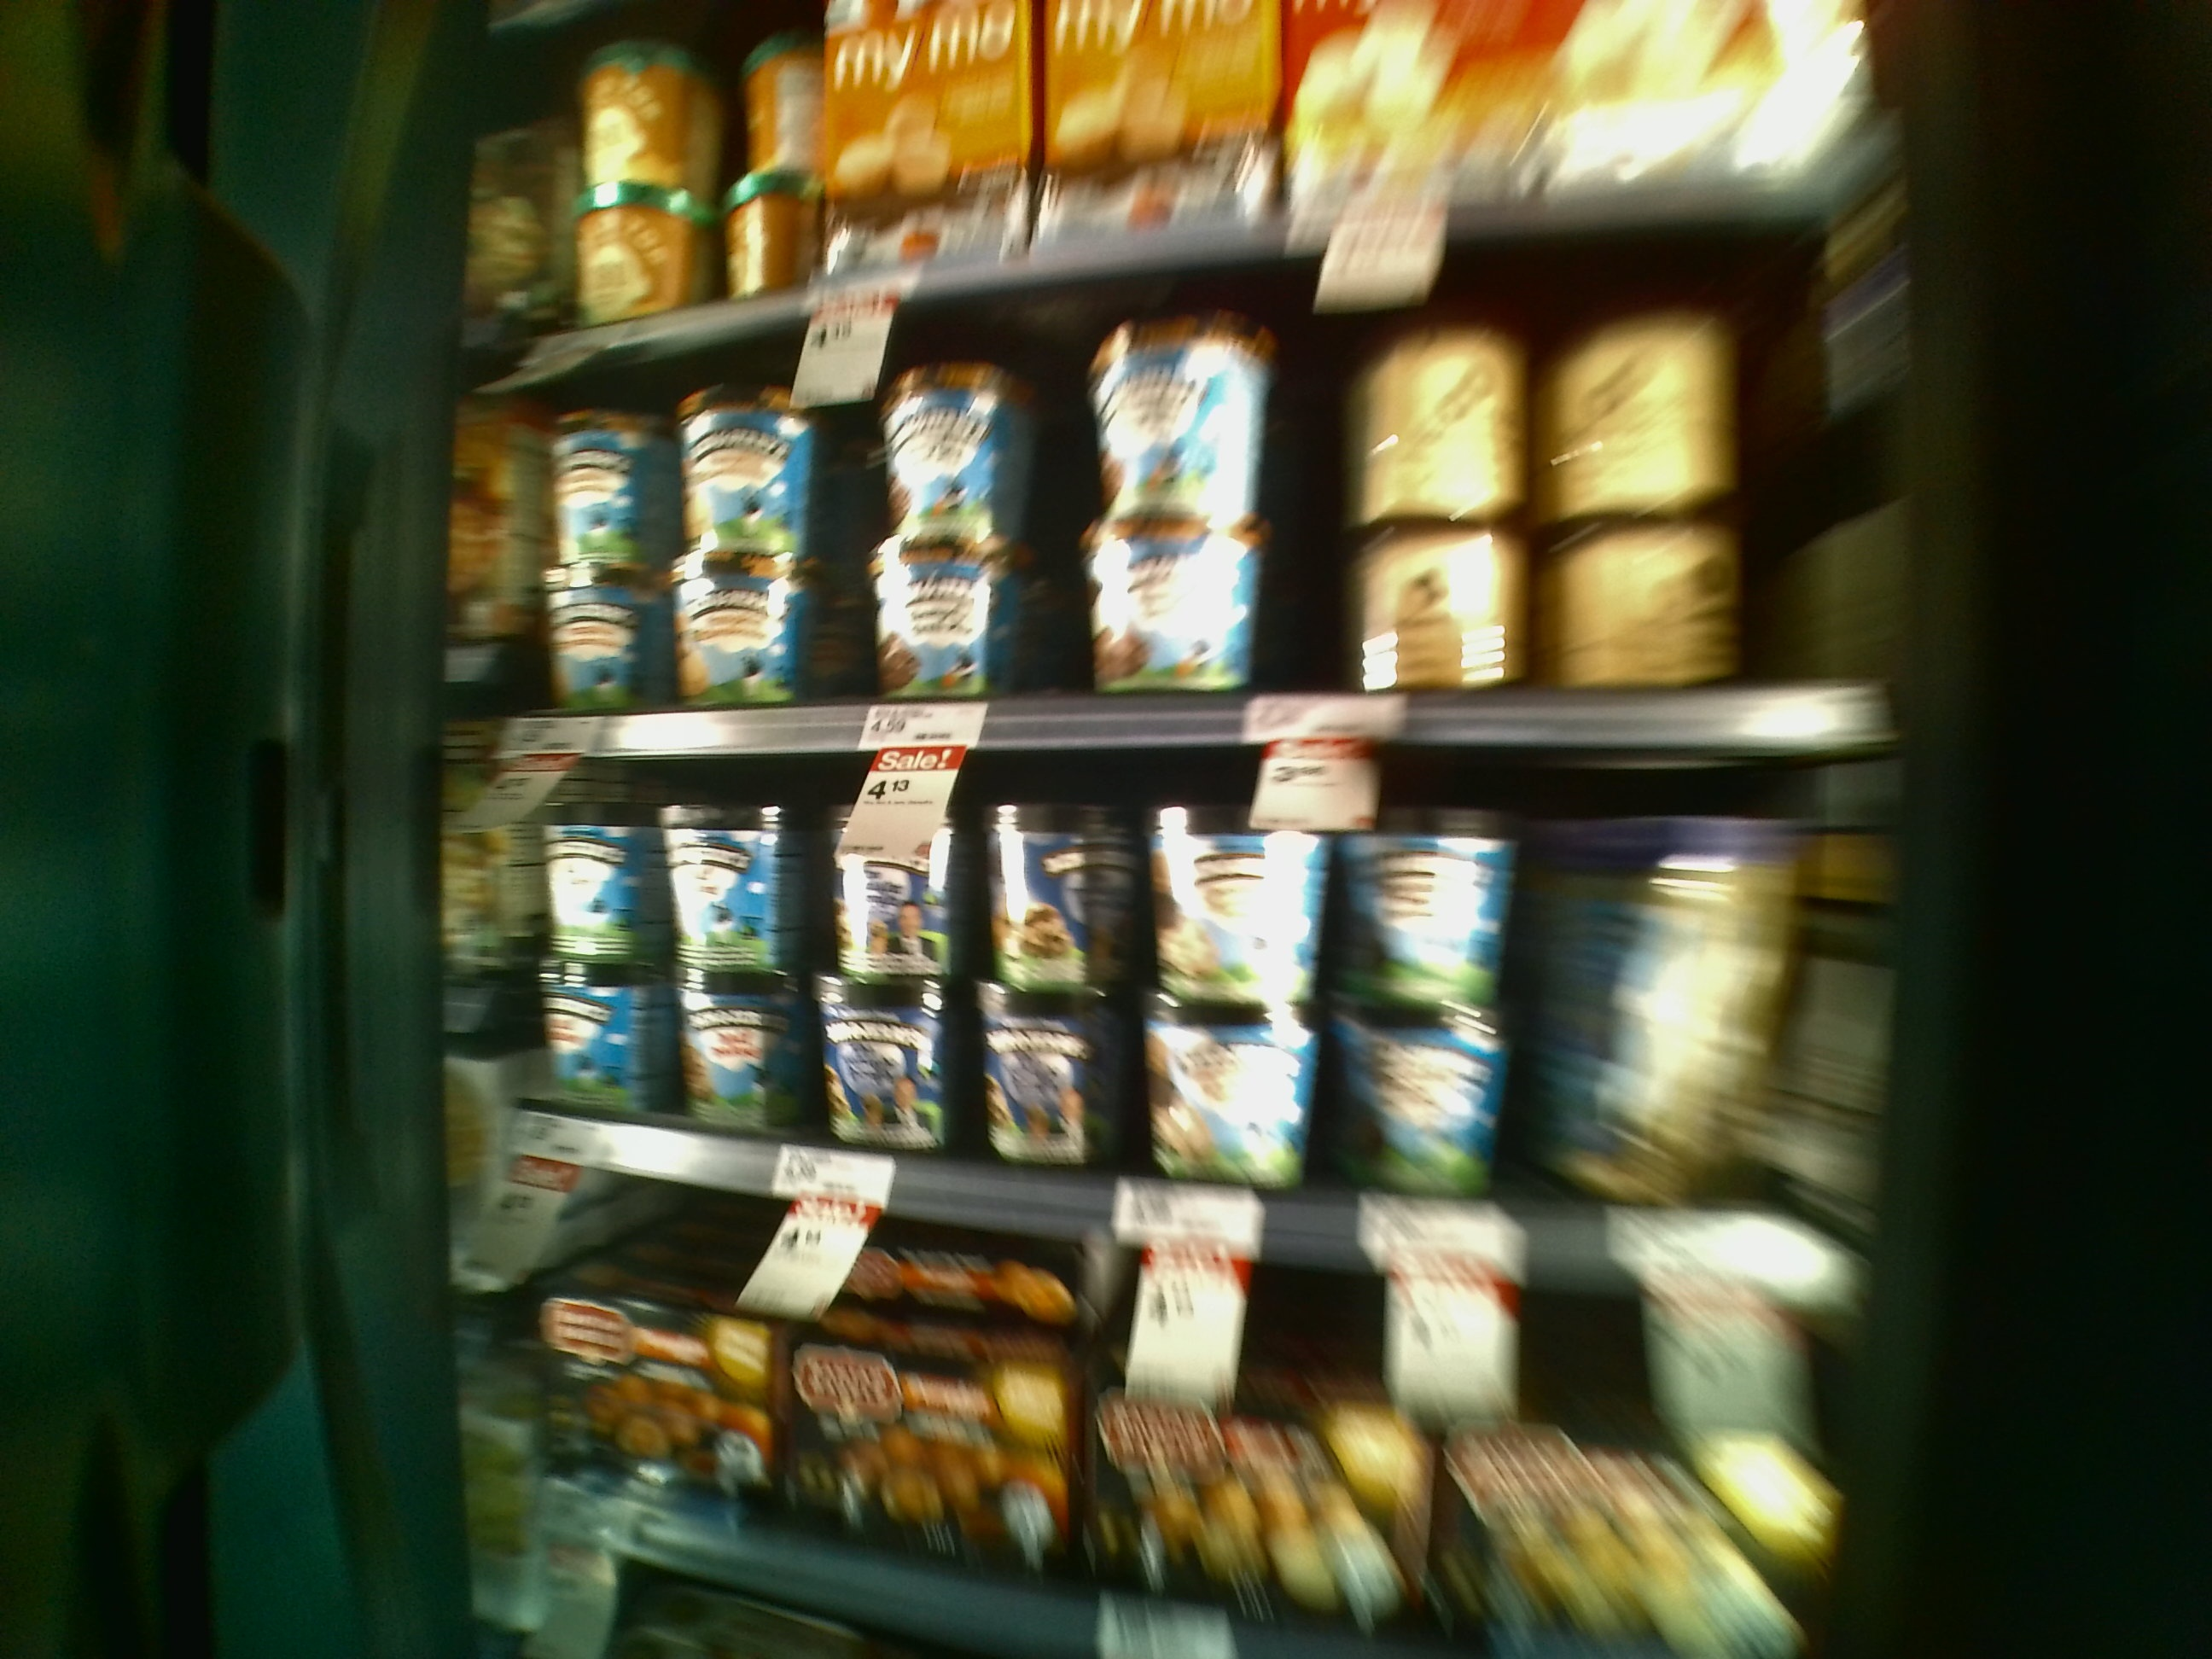shelf: (472, 701, 1848, 1309), (489, 296, 1869, 753)
